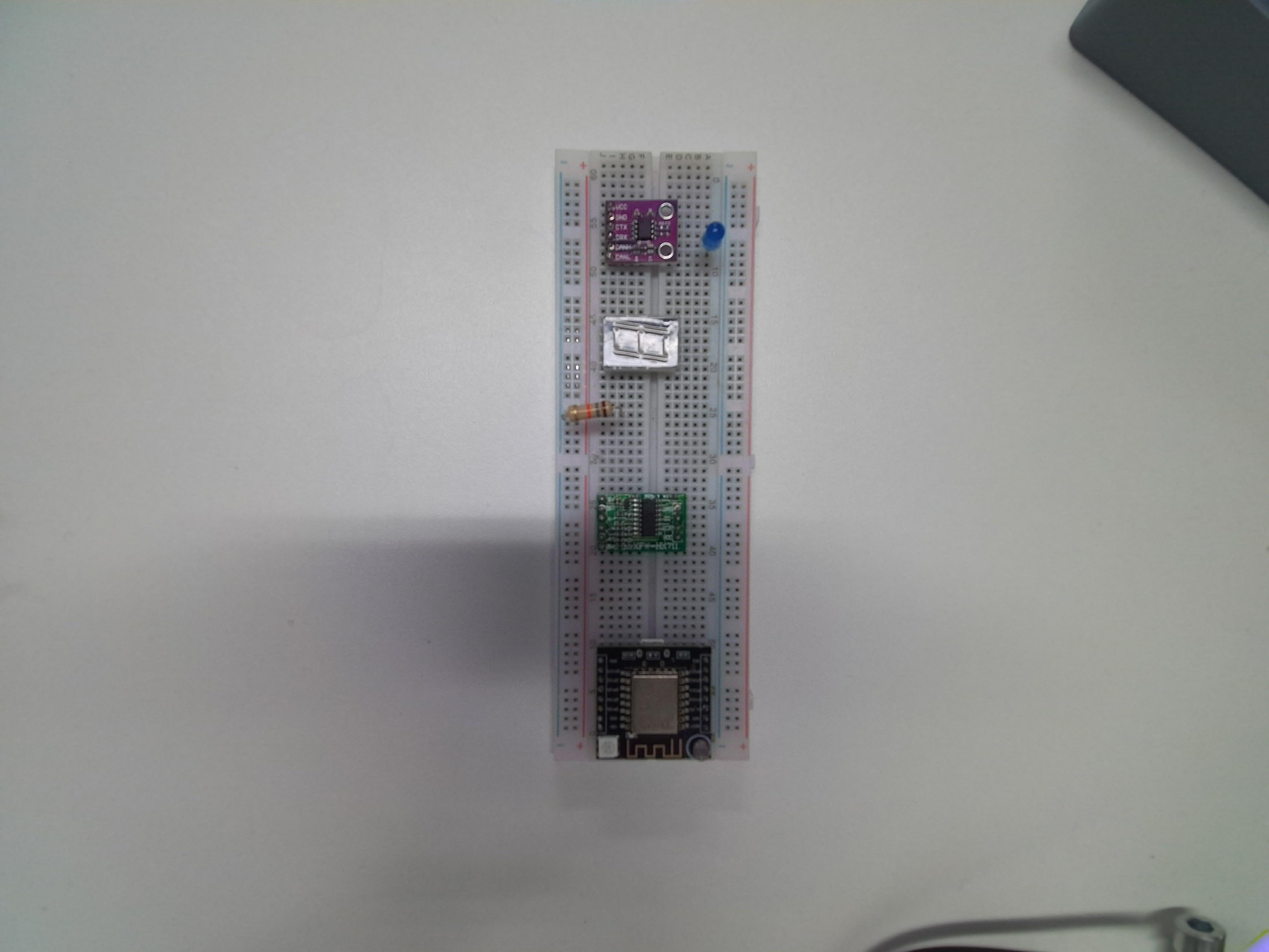base: (547, 148, 764, 767)
blue-board: (594, 488, 690, 556)
blue-led: (701, 222, 727, 252)
purple-board: (602, 198, 680, 273)
